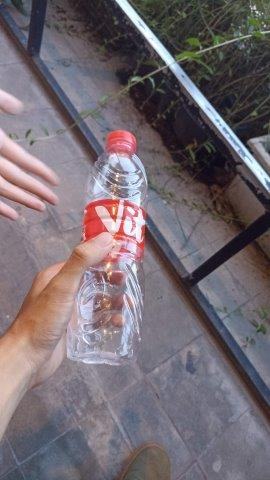botolplastik: (65, 130, 149, 369)
